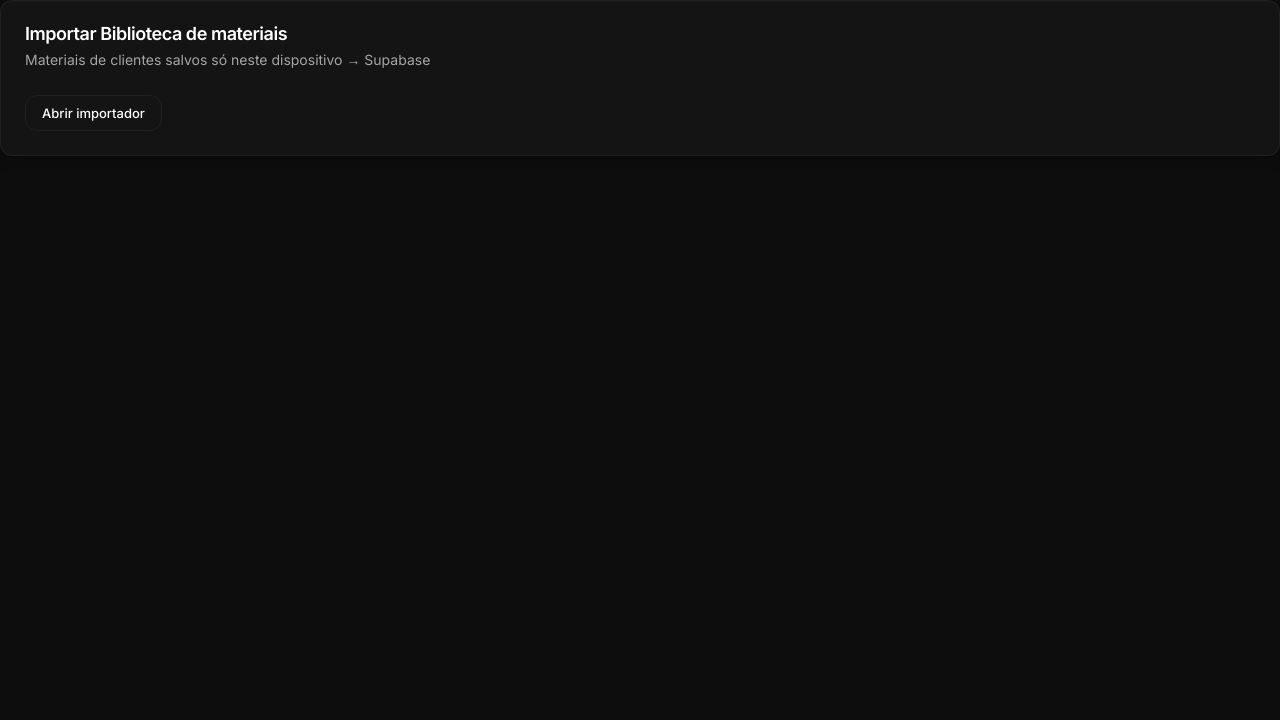
Test: ClientLibraryImportCard › lista os candidatos com a contagem de materiais
This screenshot has width=1280, height=720.
Click the button "Abrir importador": [93, 113] box [25,95,162,131]
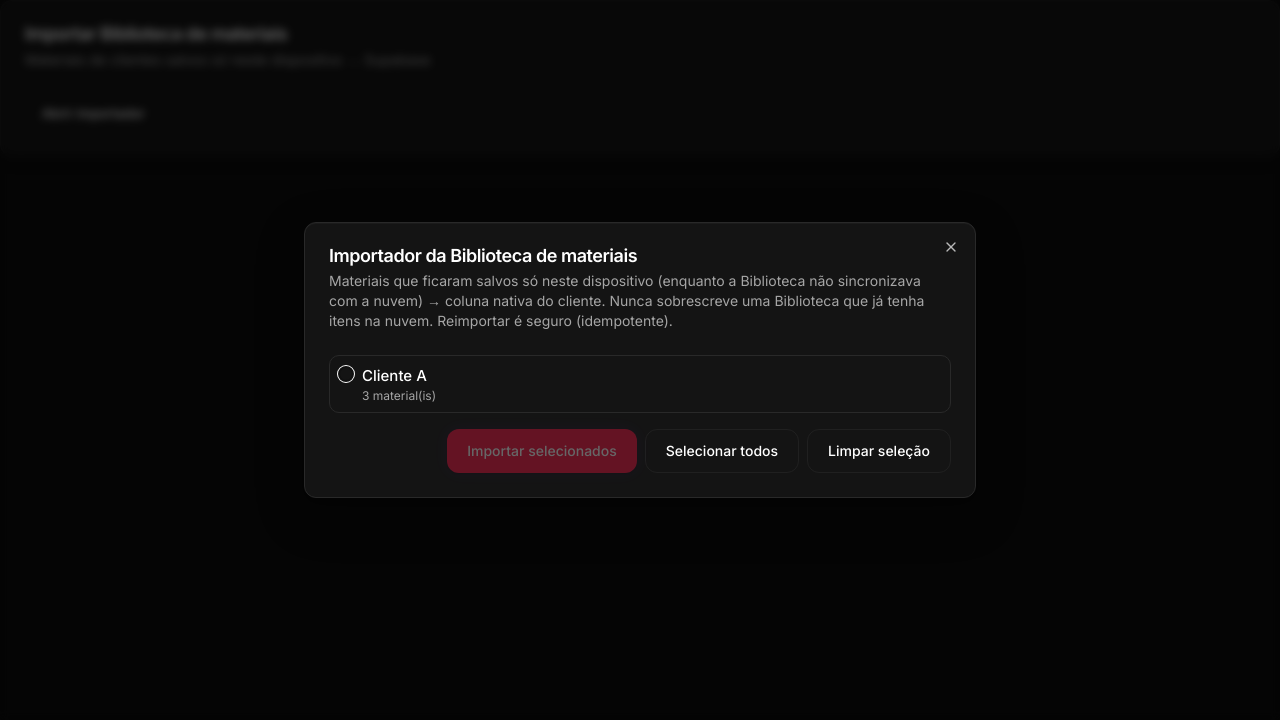
Check: the text "Cliente A" is shown, box [362,364,436,388]
Check: the text "3 material(is)" is shown, box [362,388,436,404]
